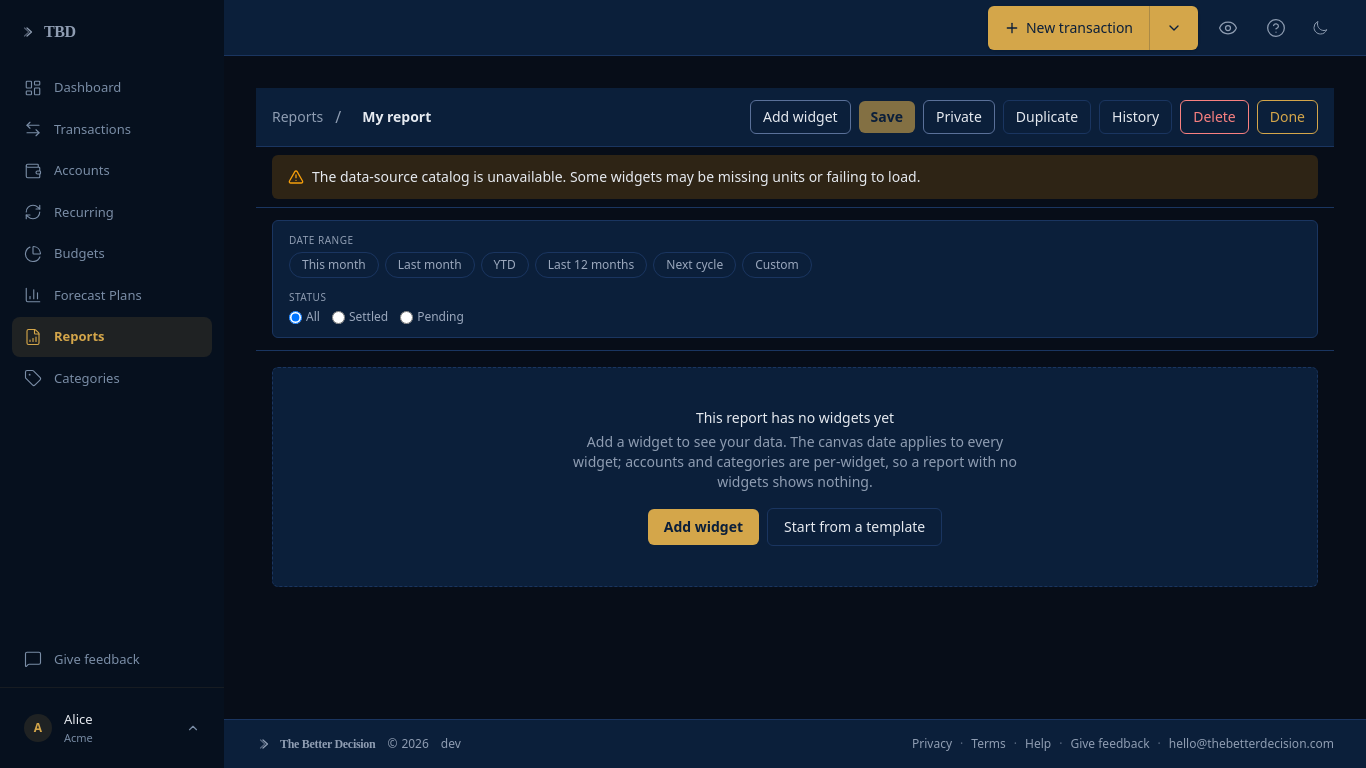
Test: ReportEditorPage › cancels editing: discards unsaved changes and exits edit mode
Expected: the element with test id "report-editor" is shown, [256,88,1334,603]
# Make a dirty change.
Click the button with test id "report-editor-add-widget" at (800, 117), box [750,100,851,134]
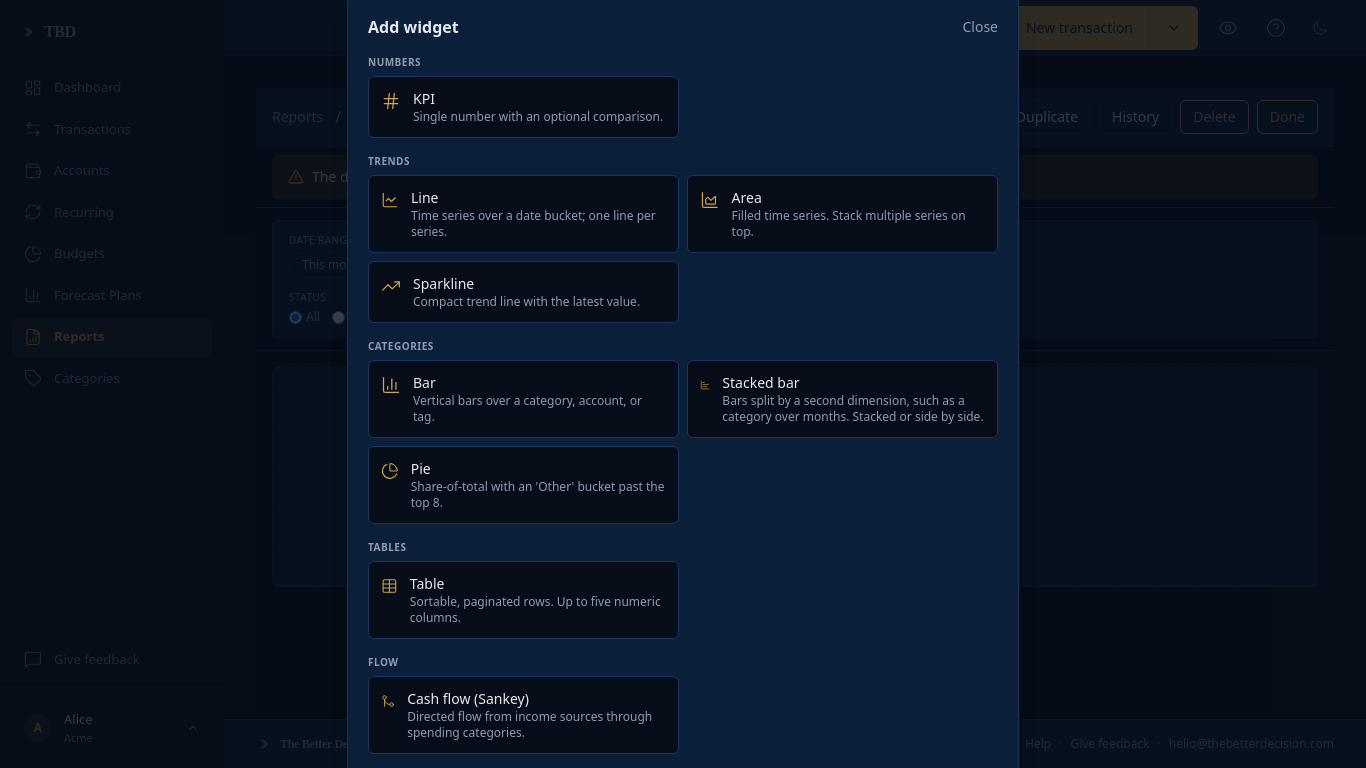
Click the button with test id "widget-picker-option-bar" at (524, 398), box [368,360,679,438]
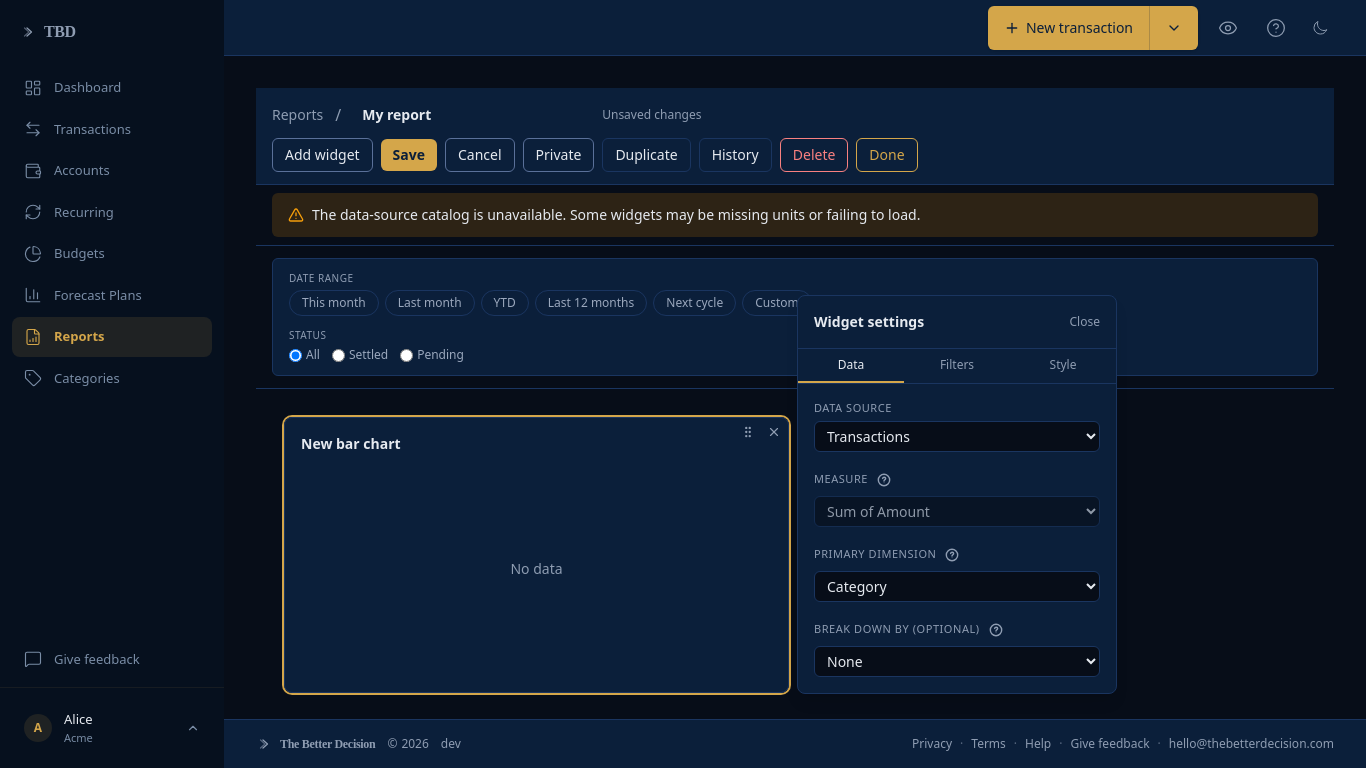
Expected: the element with test id "bar-widget" is shown, [284,417,789,693]
Expected: the text "Unsaved changes" is shown, [602,107,702,123]
# Cancel discards the unsaved widget and exits edit mode.
Click the button with test id "report-editor-cancel" at (480, 155), box [445,138,515,172]
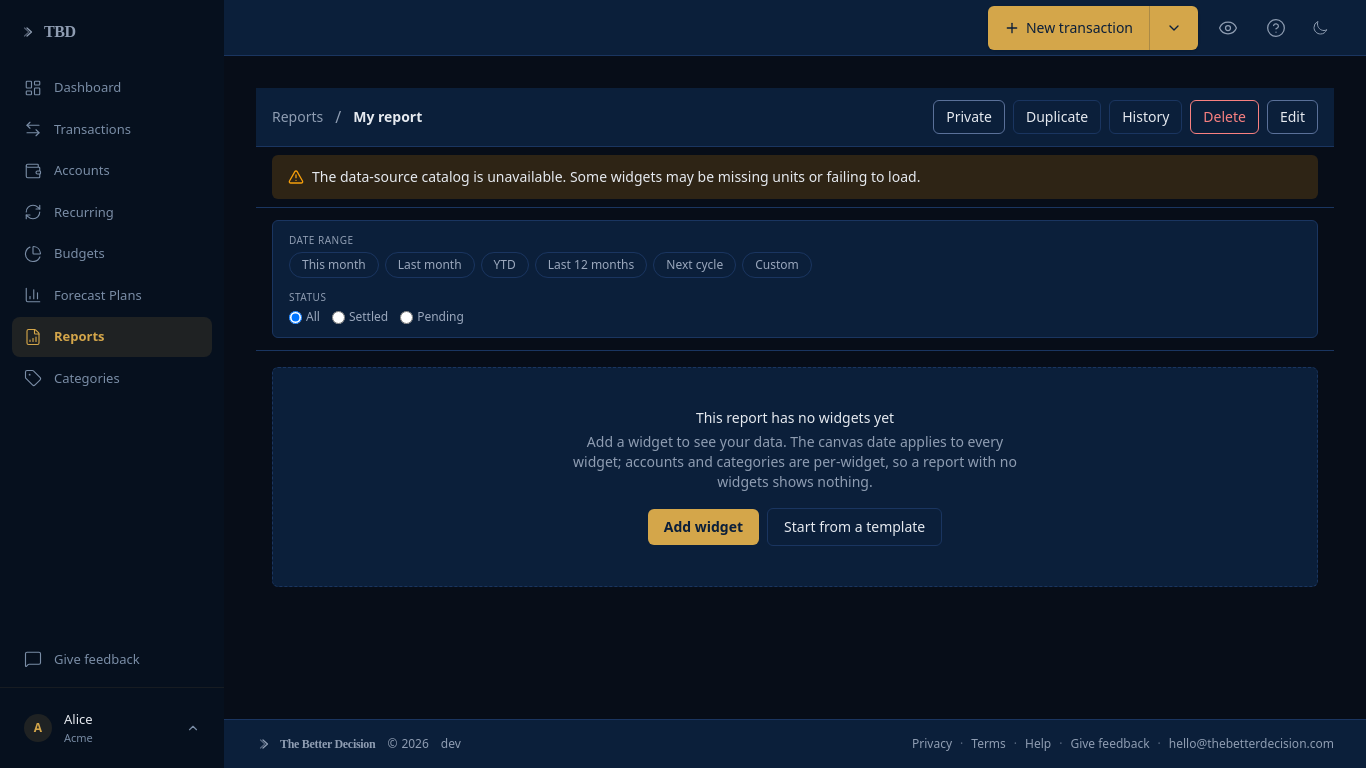
Expected: the element with test id "bar-widget" is gone
Expected: the text with test id "report-editor-dirty" is gone
Expected: the button with test id "report-editor-toggle-edit" reads "Edit", [1267,100,1318,134]
